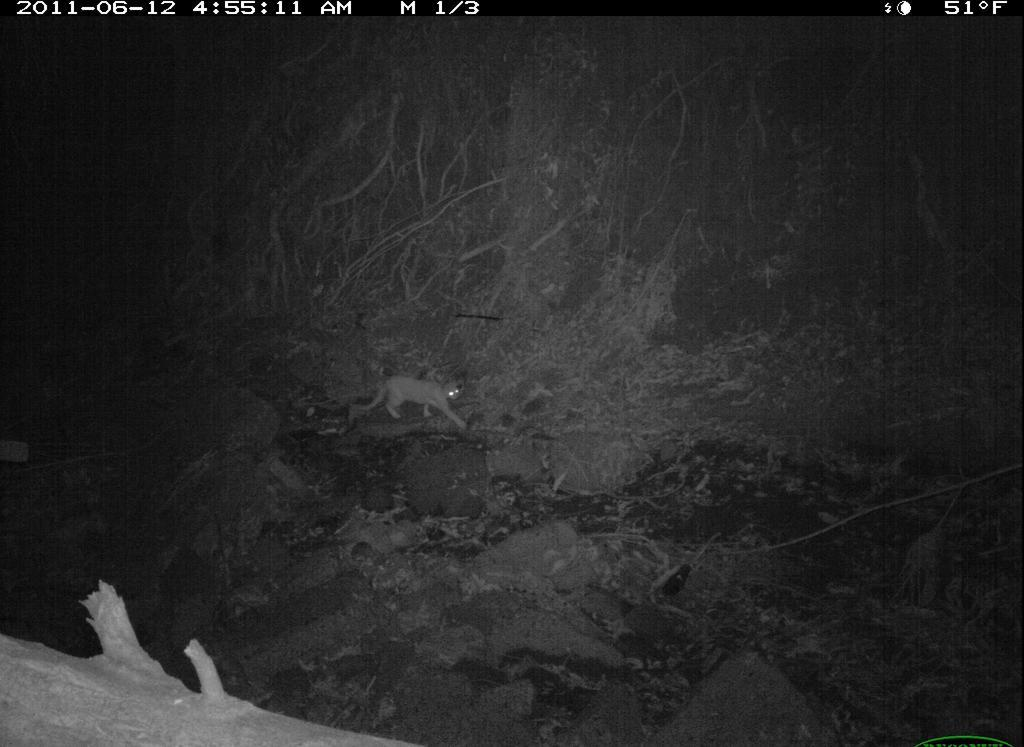cat: (350, 365, 483, 438)
